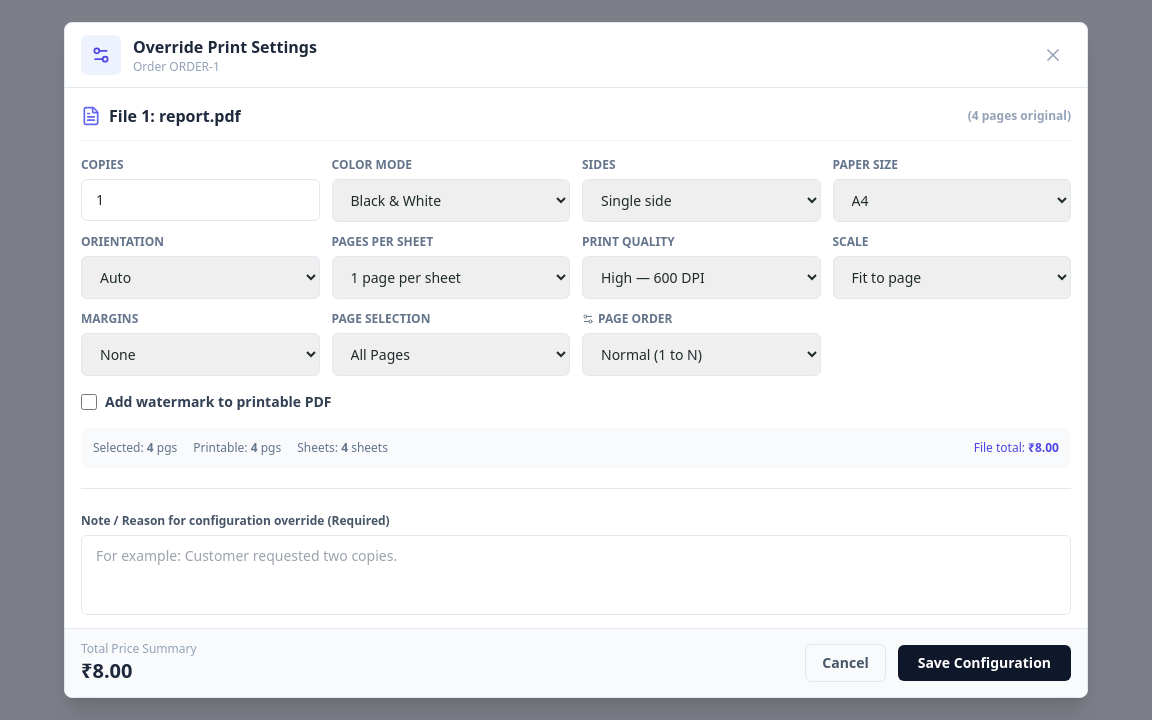
Test: shows errors without closing or discarding the draft
Type "Correction requested." into the text box labelled "Note / Reason for configuration override (Required)" at (576, 575), box [81, 535, 1071, 615]
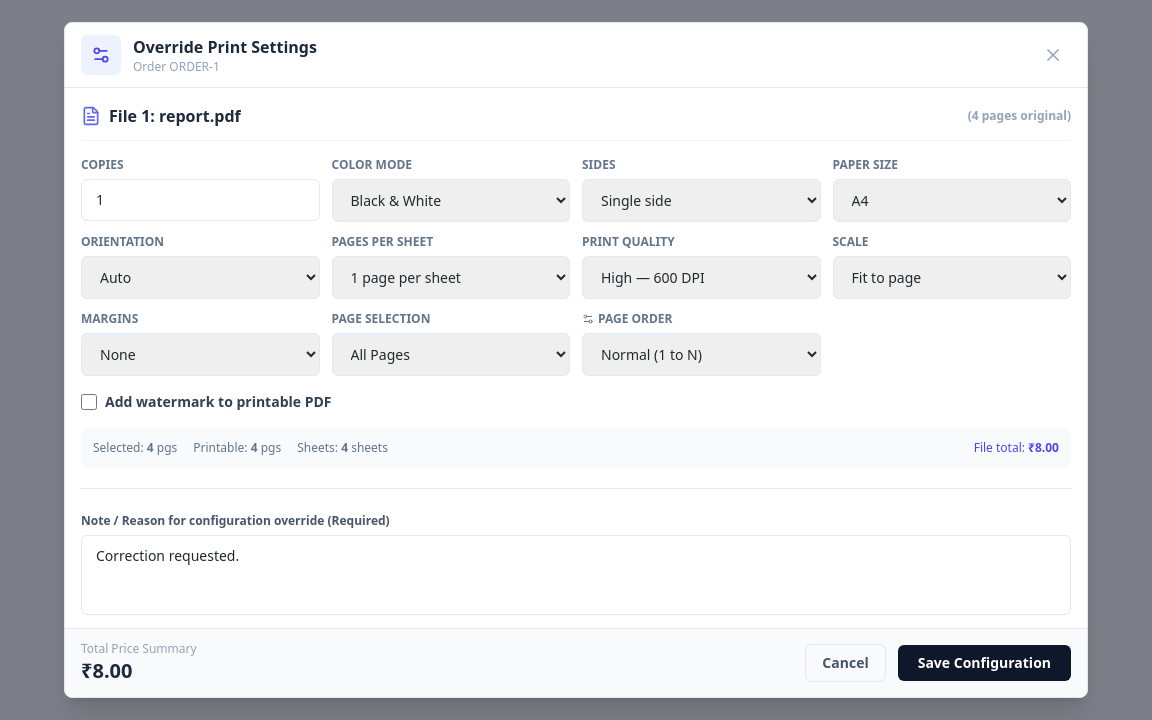
Click the button "Save Configuration" at (984, 663), box [898, 645, 1071, 681]
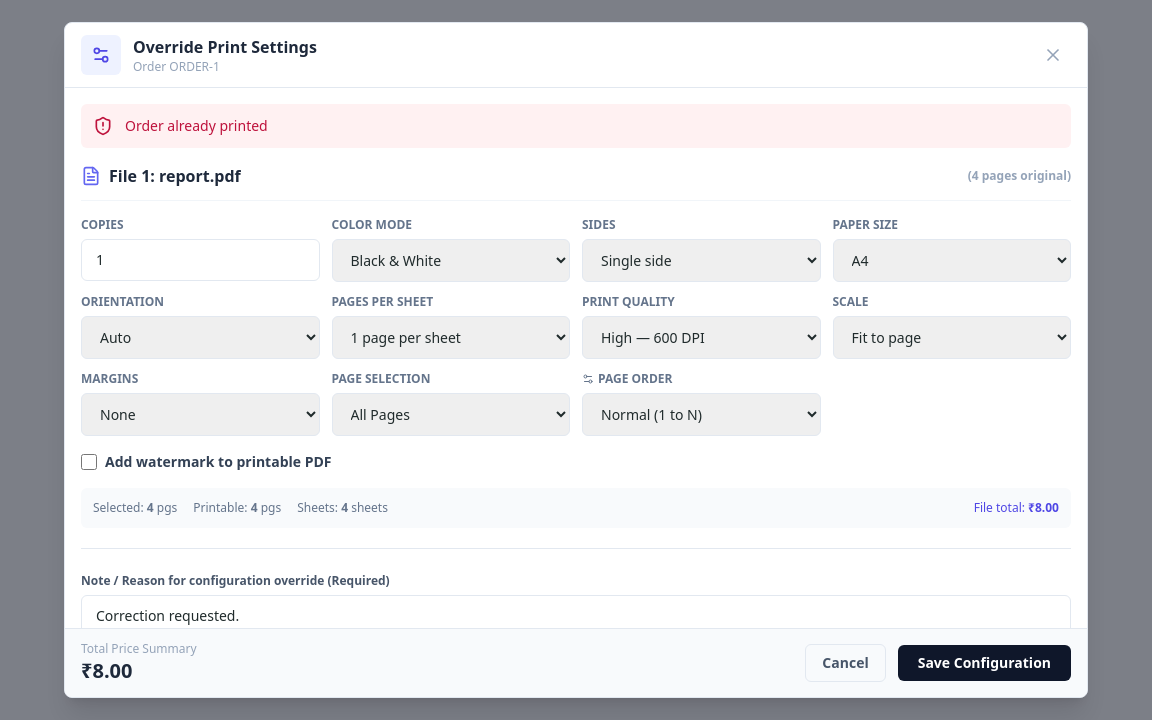
Result: the message "Order already printed" is shown at [81, 104, 1071, 148]
Result: the message reads "Order already printed" at [125, 116, 268, 135]
